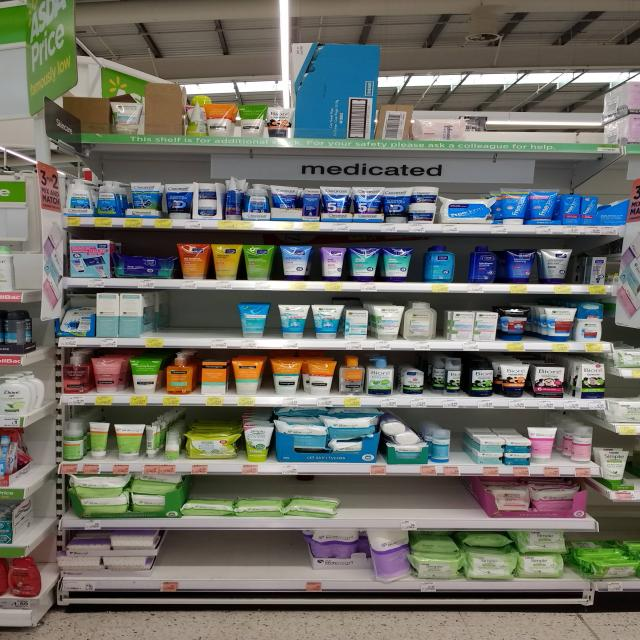void: (204, 532, 240, 594), (446, 477, 488, 530), (163, 532, 200, 592), (339, 473, 378, 528), (148, 290, 181, 347), (246, 534, 276, 592), (280, 530, 308, 592), (186, 291, 215, 346), (413, 476, 442, 529), (585, 107, 618, 153), (383, 475, 409, 529), (548, 111, 582, 151), (216, 290, 238, 346), (426, 354, 446, 408), (457, 426, 478, 477), (490, 114, 520, 149), (456, 238, 473, 292), (524, 112, 545, 152), (463, 120, 489, 151)
